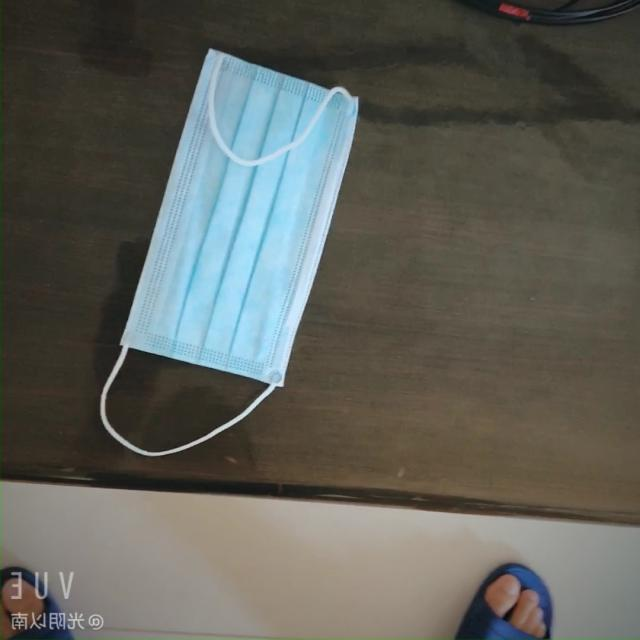face mask: (127, 44, 333, 424)
